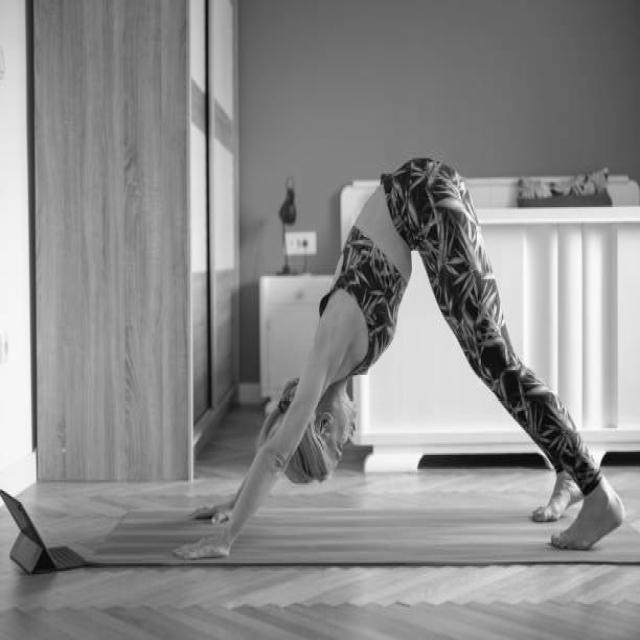Downward-Facing_Dog: (168, 151, 632, 563)
